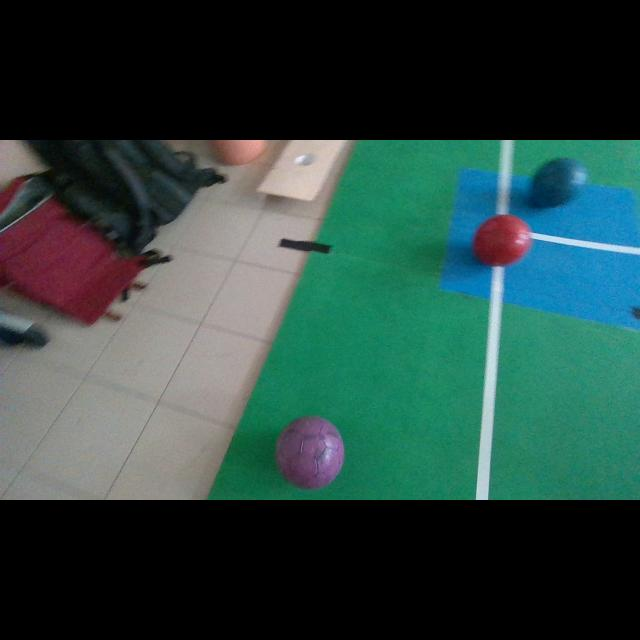B: (530, 158, 588, 208)
P: (275, 416, 344, 489)
R: (472, 215, 532, 266)
